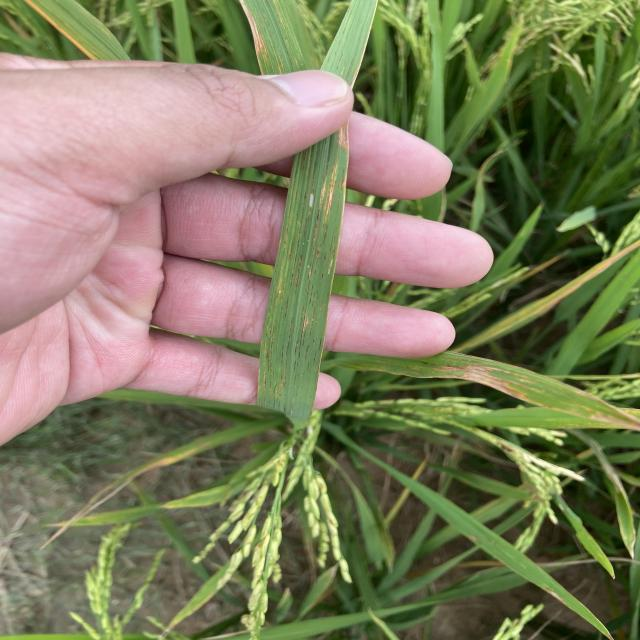Dom soc vi khuan: (305, 174, 328, 294), (274, 242, 293, 312), (322, 164, 338, 245), (284, 188, 294, 245), (273, 376, 284, 408), (300, 309, 309, 347), (295, 254, 303, 294), (326, 247, 336, 277), (308, 178, 314, 218), (310, 307, 316, 334), (263, 369, 266, 392)
